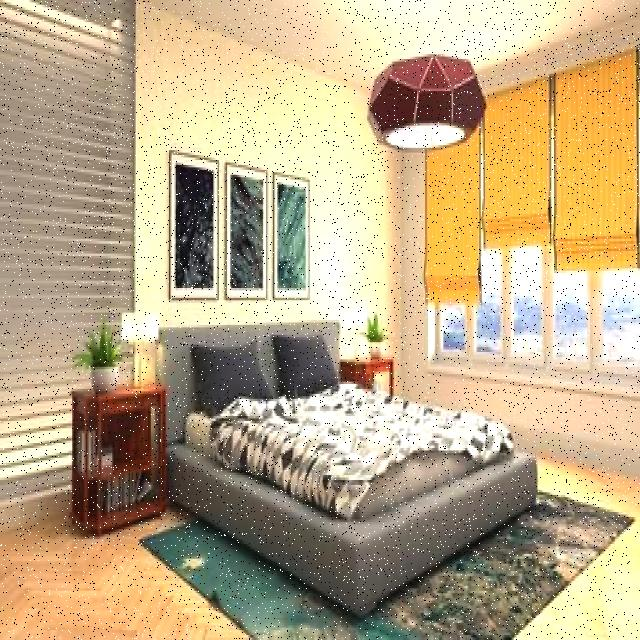bed: (162, 313, 541, 572)
